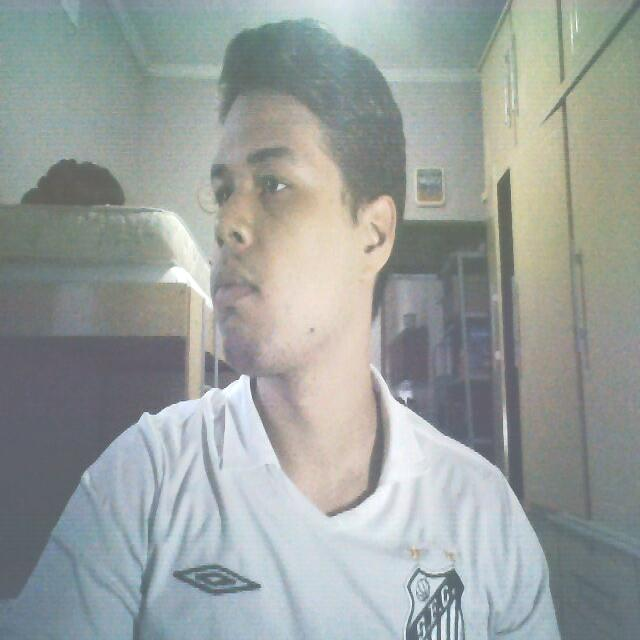acordado: (209, 100, 380, 370)
